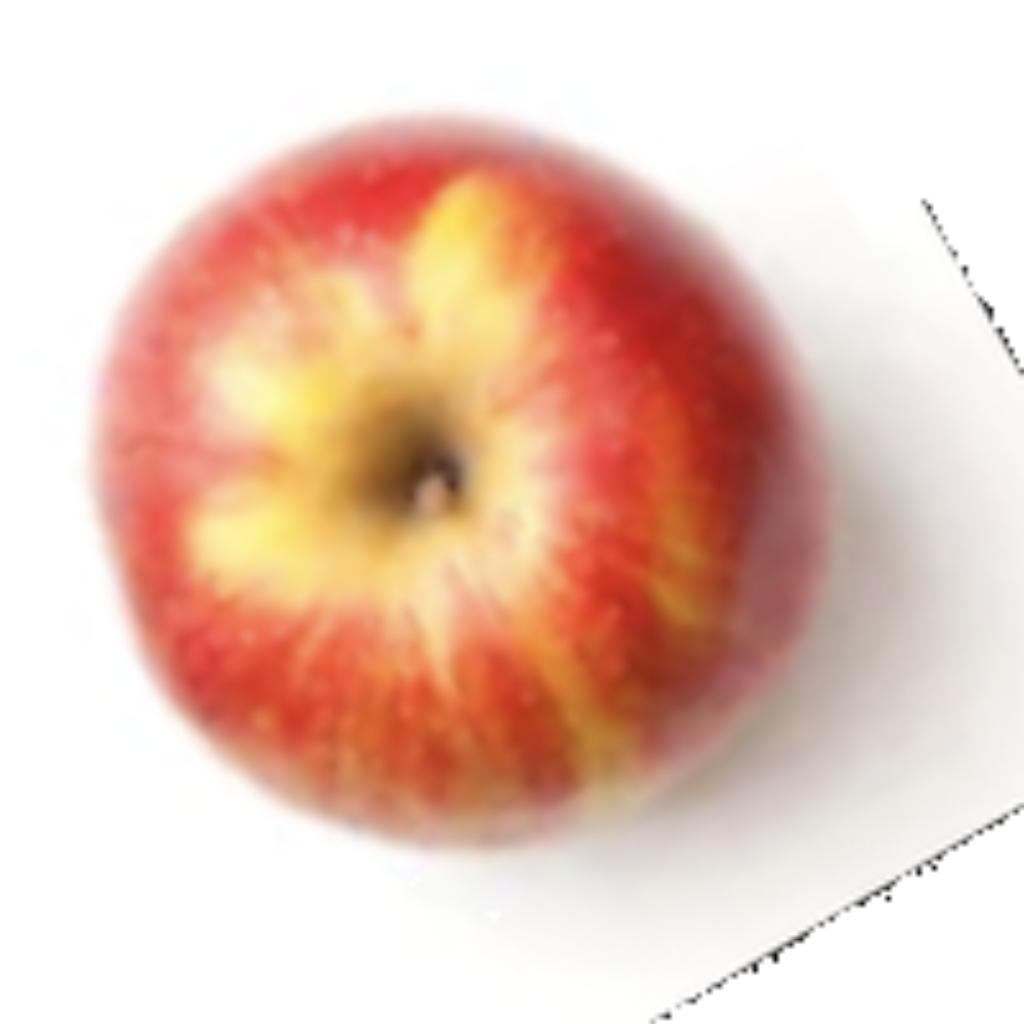apple: (72, 97, 947, 886)
